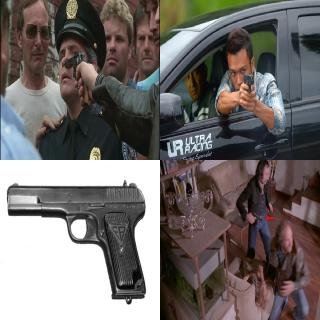gun: (5, 180, 148, 298), (64, 50, 98, 114), (235, 68, 257, 112), (252, 210, 262, 228)
